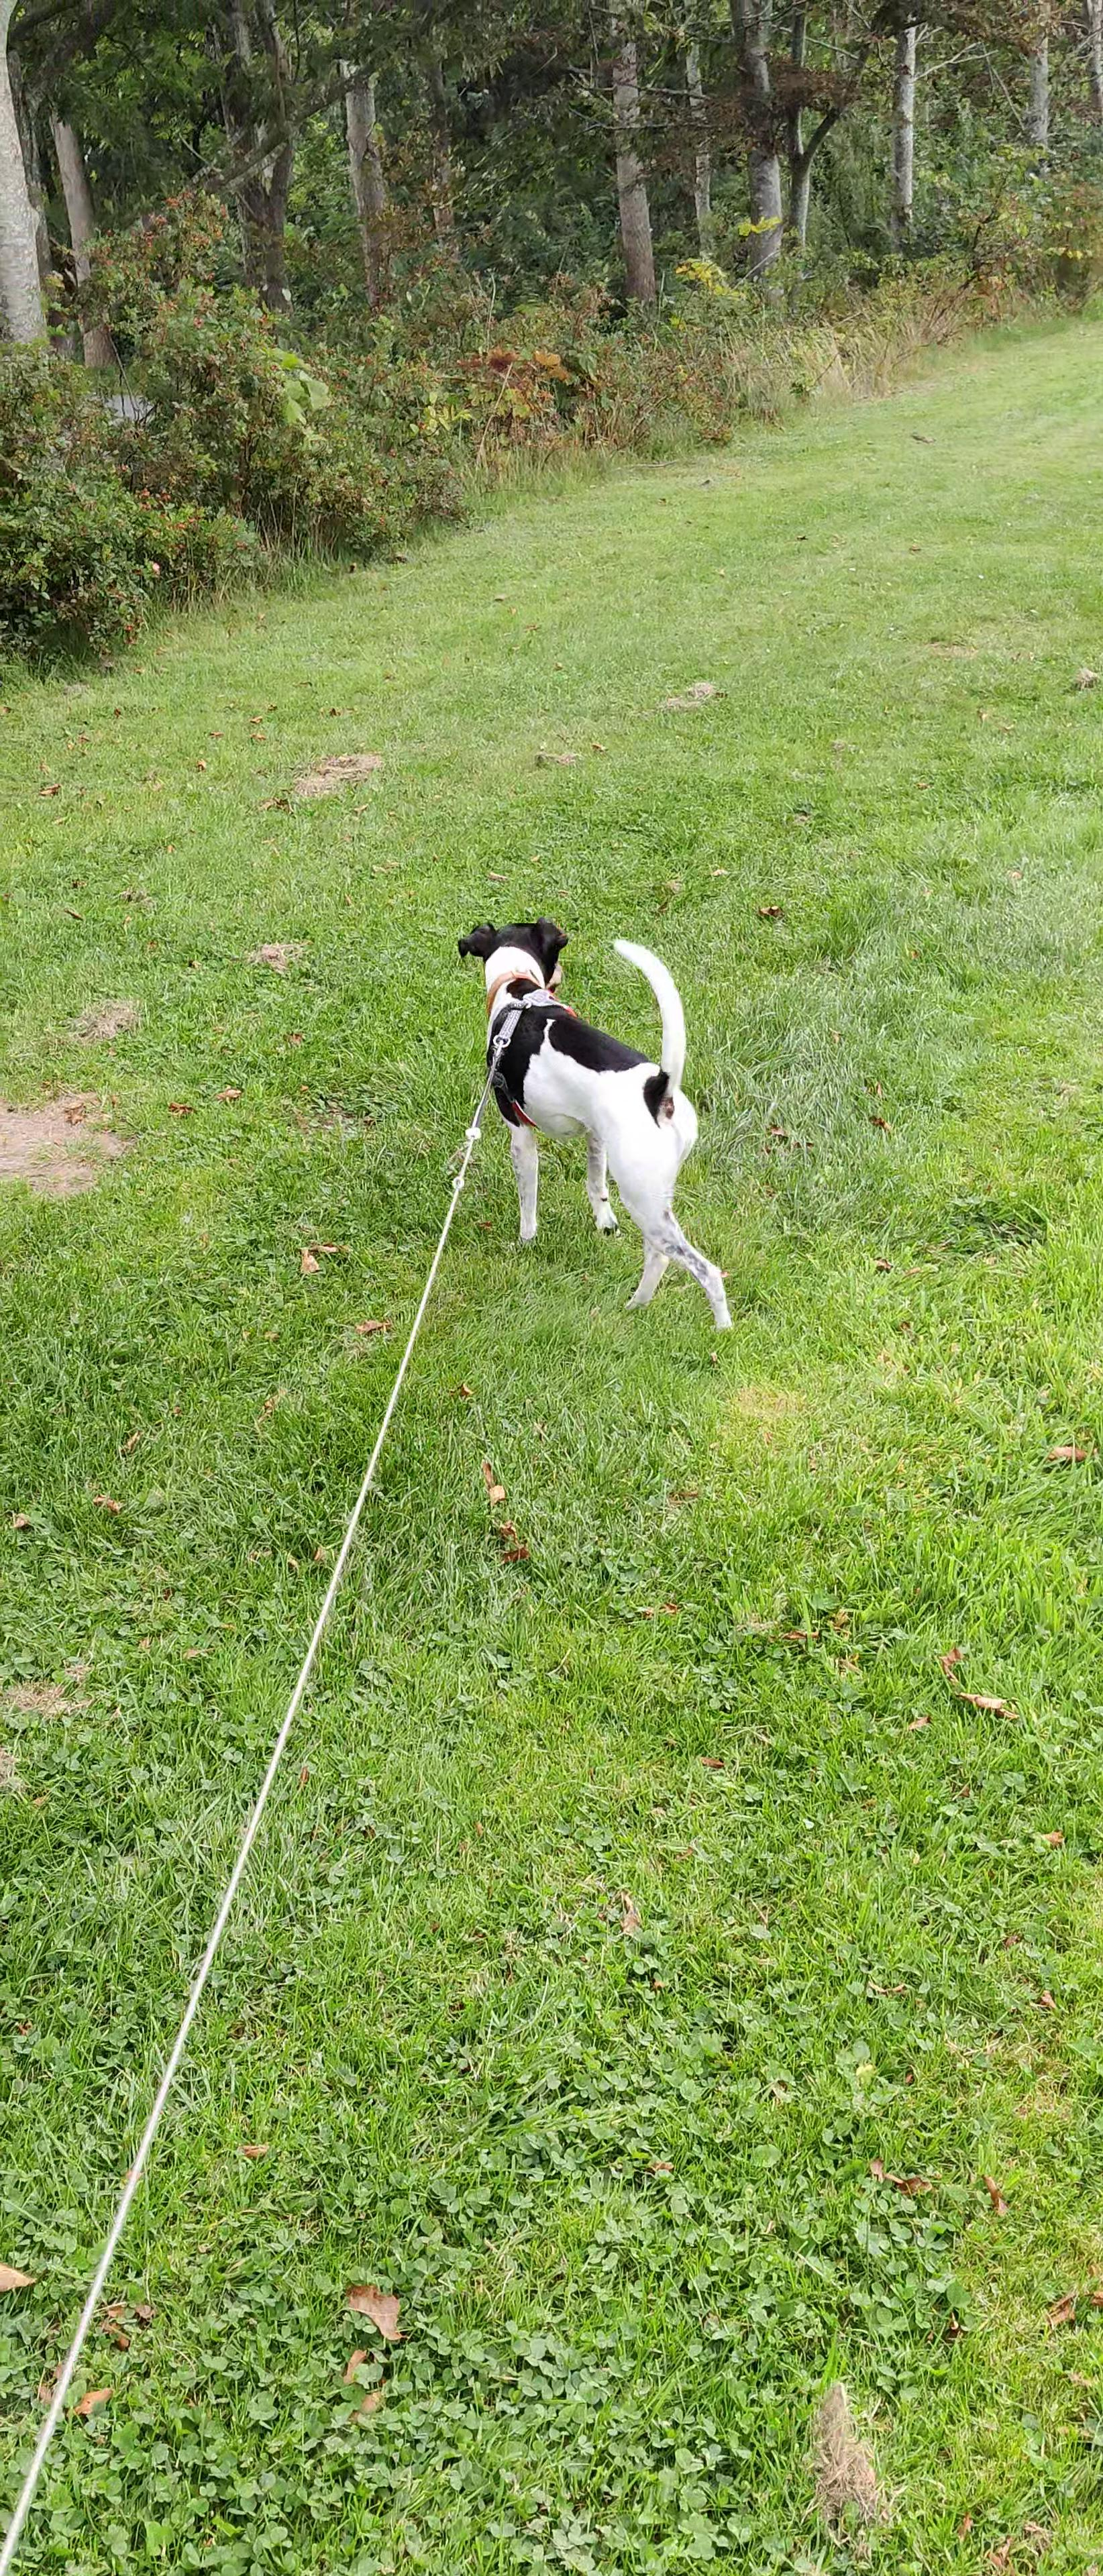Dog: (434, 899, 750, 1339)
